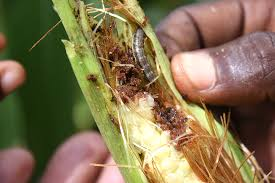Armyworm: (127, 19, 161, 89)
